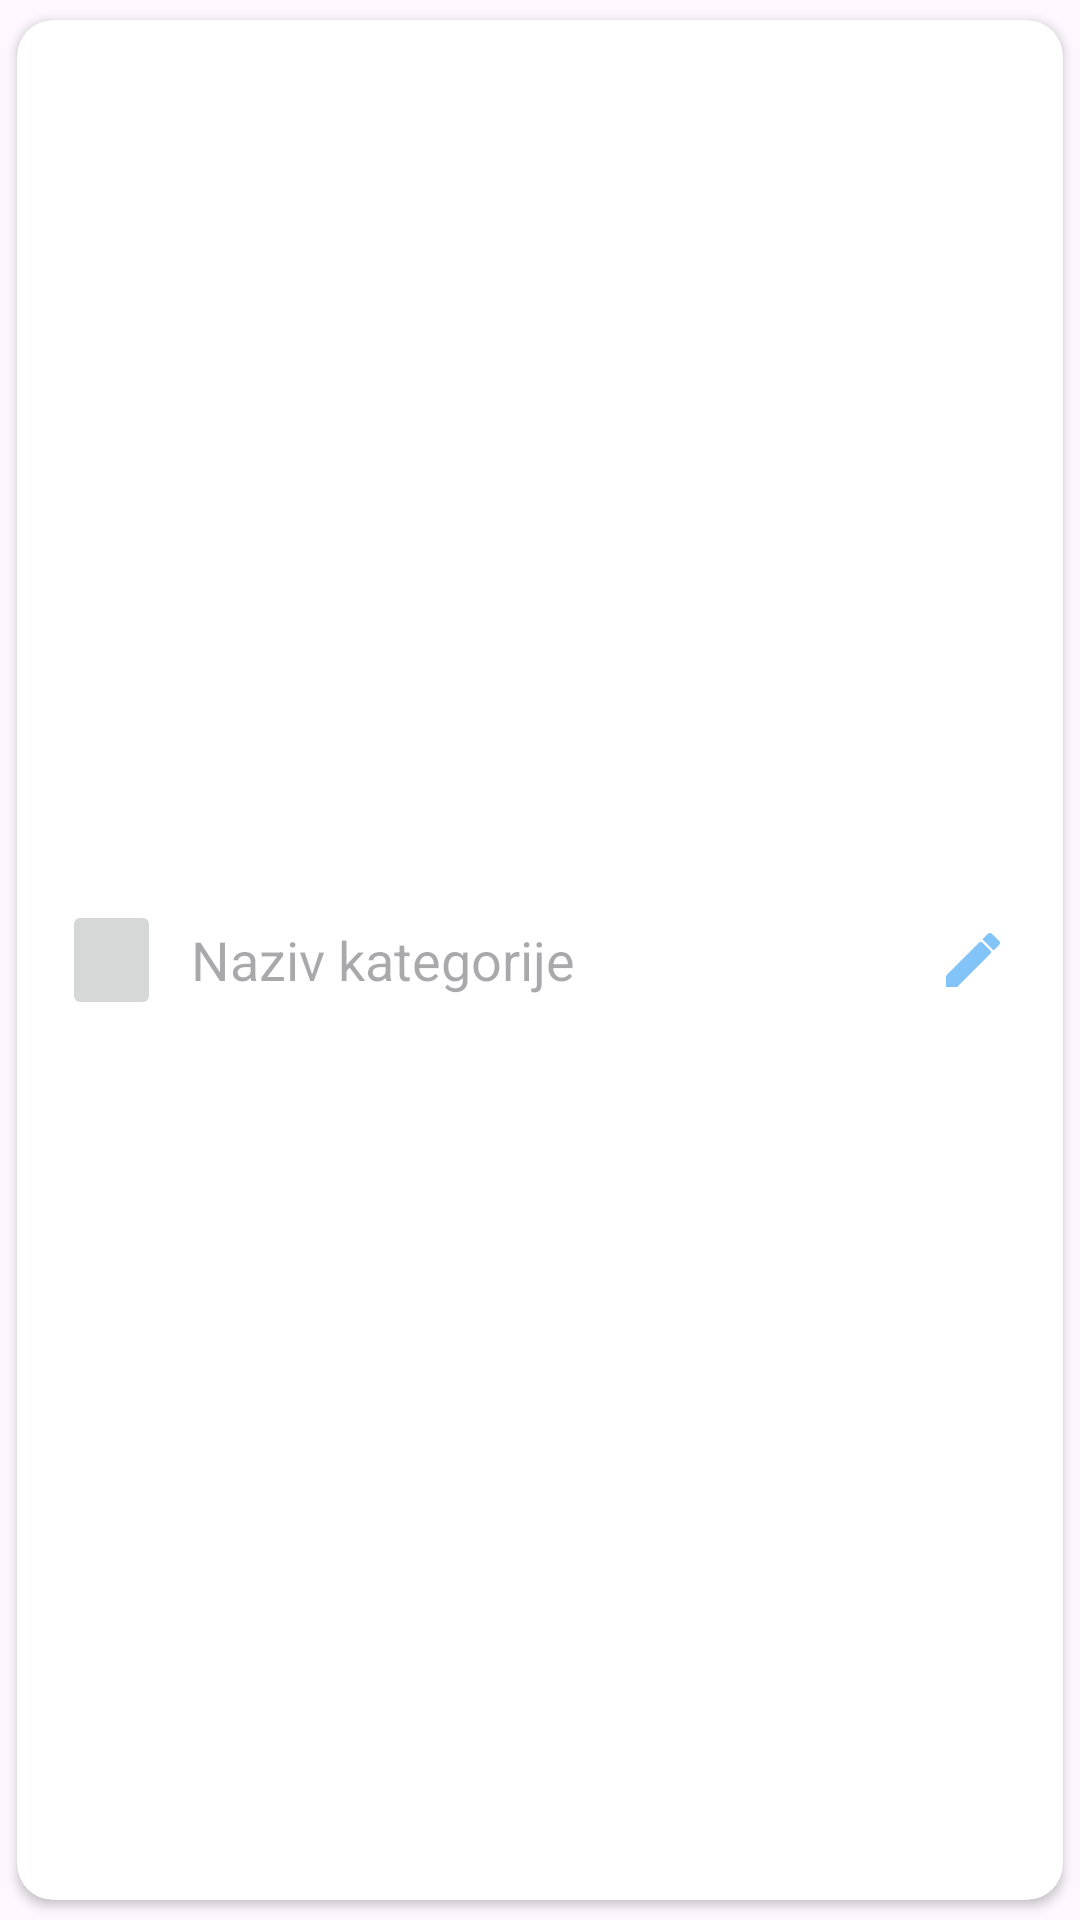

Named icons in this screenshot (1080*1920) and their bounding boxes, (x1, y1, x2, y2):
edit: (946, 933, 1000, 987)
